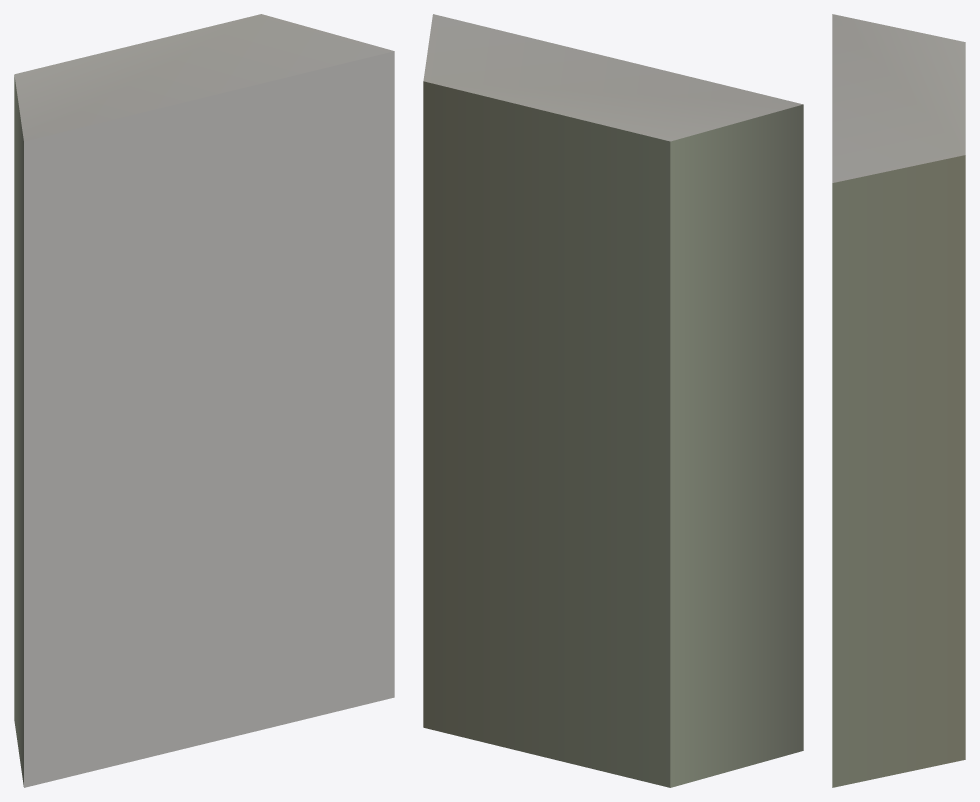
Rendered from wall-b-detail-painted.glb.
3 views of the same model, side by side, from view 1: azimuth 30°, elevation 25°; view 2: azimuth 150°, elevation 25°; view 3: azimuth 270°, elevation 25° (orthographic). The views are drawn at different scales.
Visible parts, largest first — view 1: wall-b-detail-painted; view 2: wall-b-detail-painted; view 3: wall-b-detail-painted.
Boxes of the visible parts, x1=… form: wall-b-detail-painted: x1=14, y1=14, x2=394, y2=787; wall-b-detail-painted: x1=423, y1=14, x2=803, y2=787; wall-b-detail-painted: x1=832, y1=14, x2=965, y2=787.
Bounding box in the file's own units: 0.6 × 1 × 0.2.
